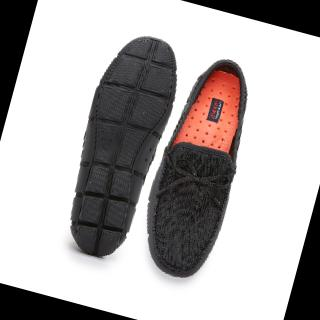loafers: (48, 26, 274, 293)
